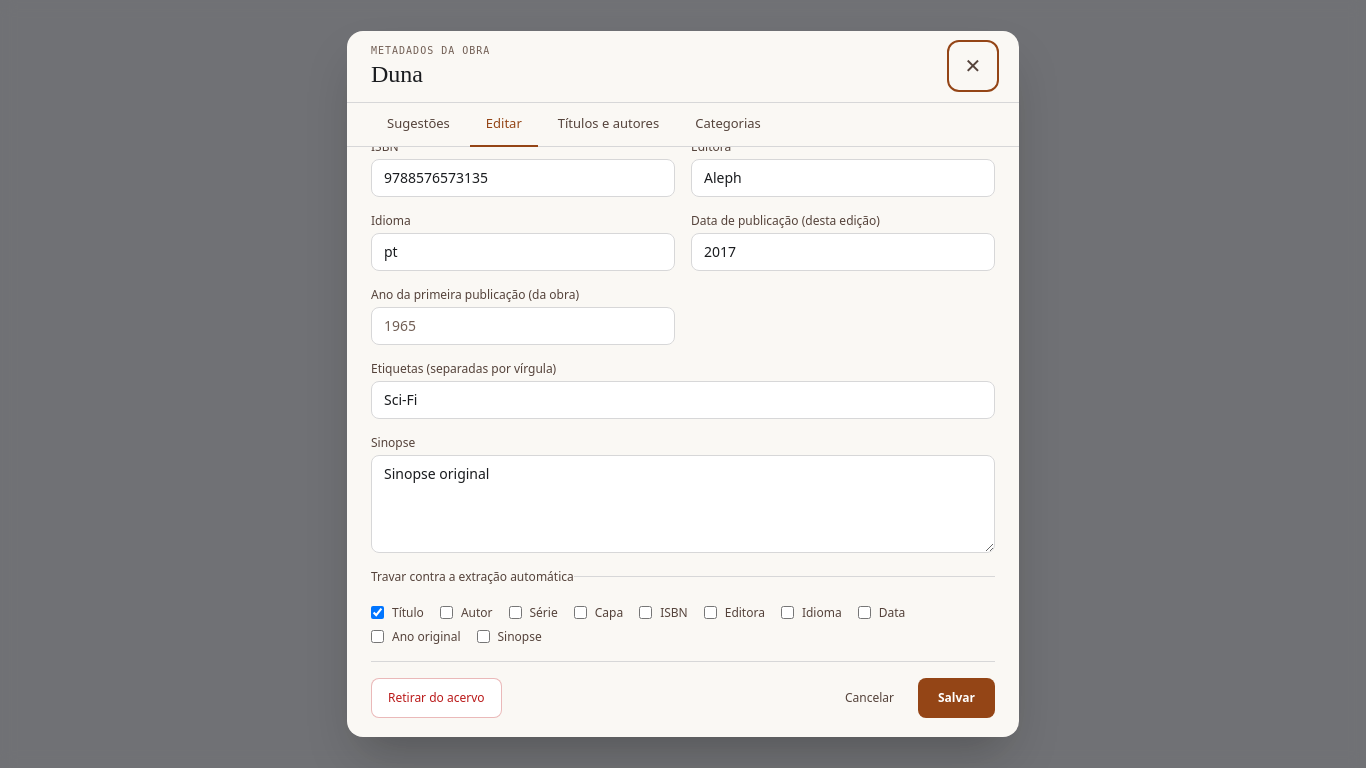
Scenario: EditBookModal: the metadata of a work (#70) › shows what the server said when saving fails, and keeps the modal open
(page scrolled)
Click the button "Salvar".
click(956, 698)  # box [918, 678, 995, 718]
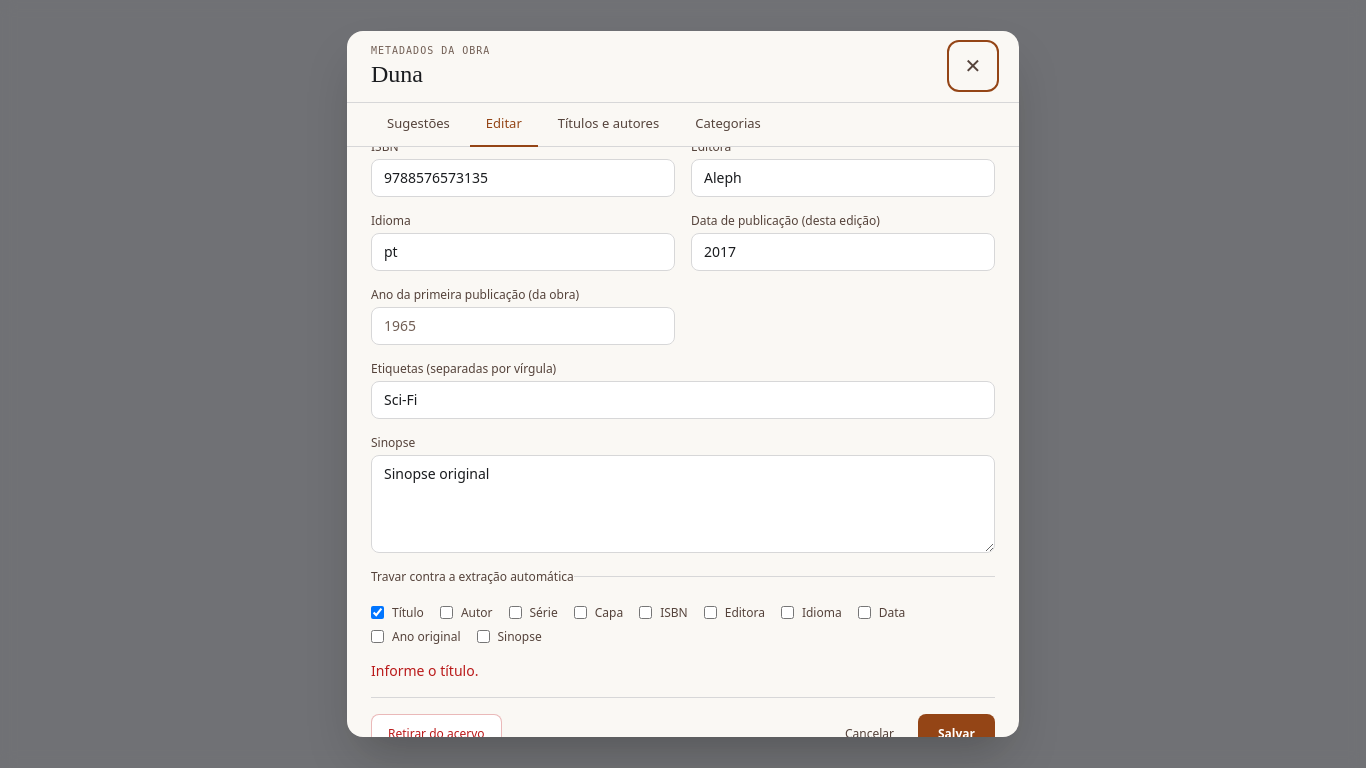
Check: the message "Informe o título." is shown, box [371, 661, 478, 680]
